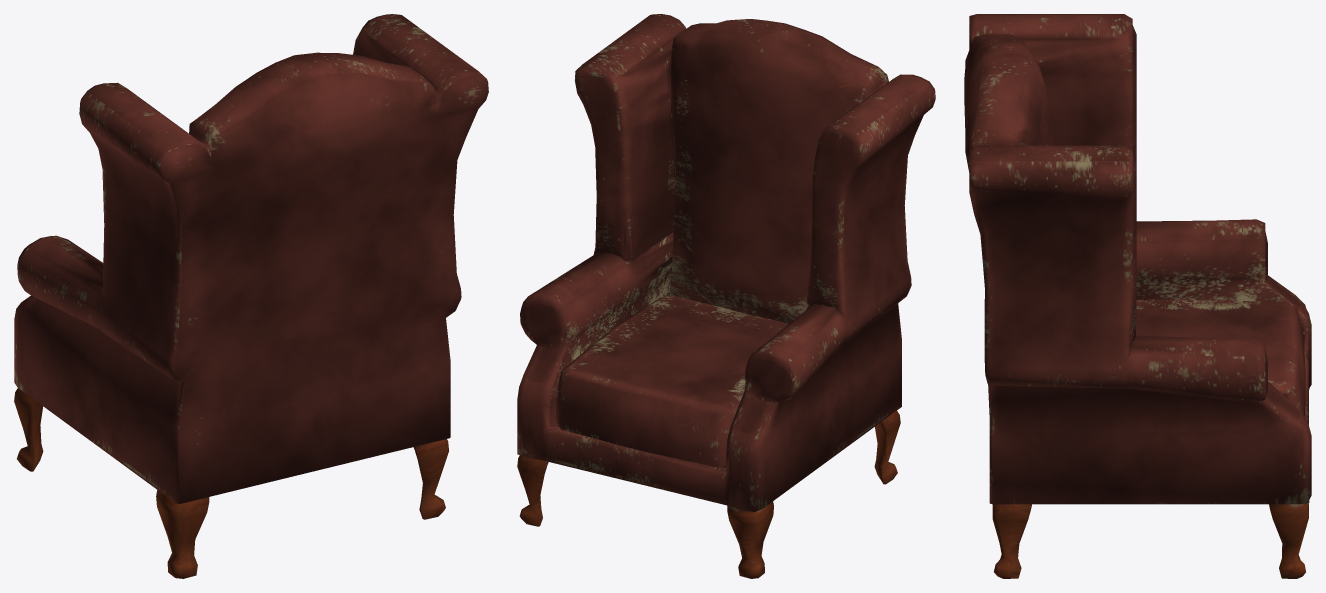
Rendered from oldArmchair.gltf.
The picture shows the model from 3 angles, left to right: view 1: azimuth 30°, elevation 25°; view 2: azimuth 150°, elevation 25°; view 3: azimuth 270°, elevation 25°; orthographic projection. The views are drawn at different scales.
Visible parts, largest first — view 1: chair_chesterfield; view 2: chair_chesterfield; view 3: chair_chesterfield.
Part boxes in pixels (box(x1,y1,x2,y2)): chair_chesterfield: box(14, 14, 488, 578); chair_chesterfield: box(517, 14, 935, 578); chair_chesterfield: box(964, 14, 1311, 578).
Size of the model in its own units: 116 by 161 by 109.
Materials: 1 (1 with a texture image).
